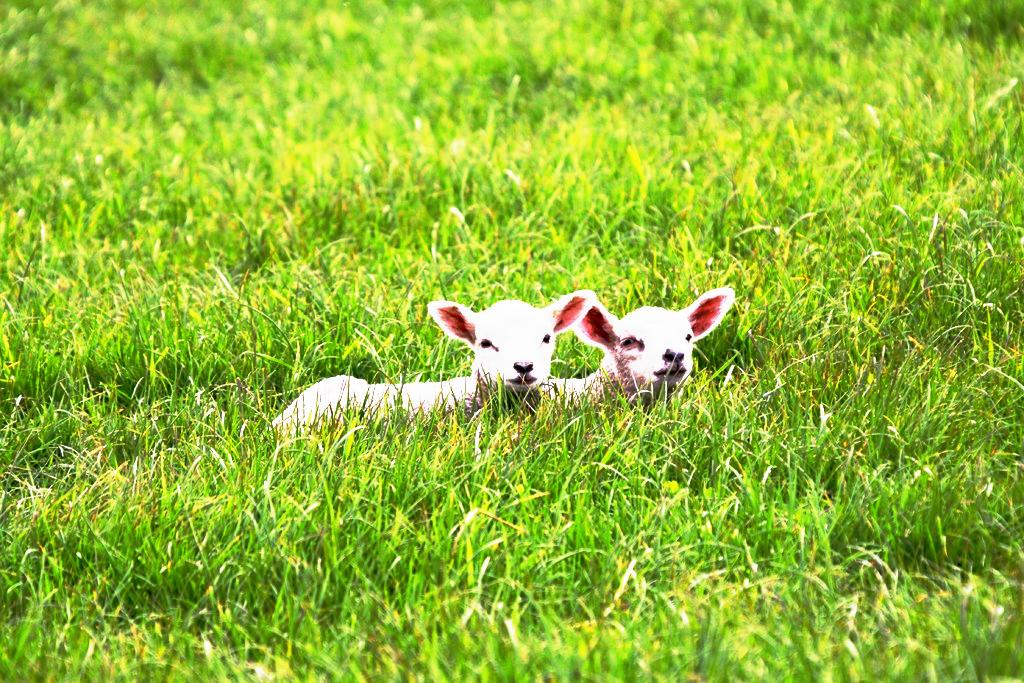Sheep: (272, 289, 594, 434), (544, 287, 739, 407)
